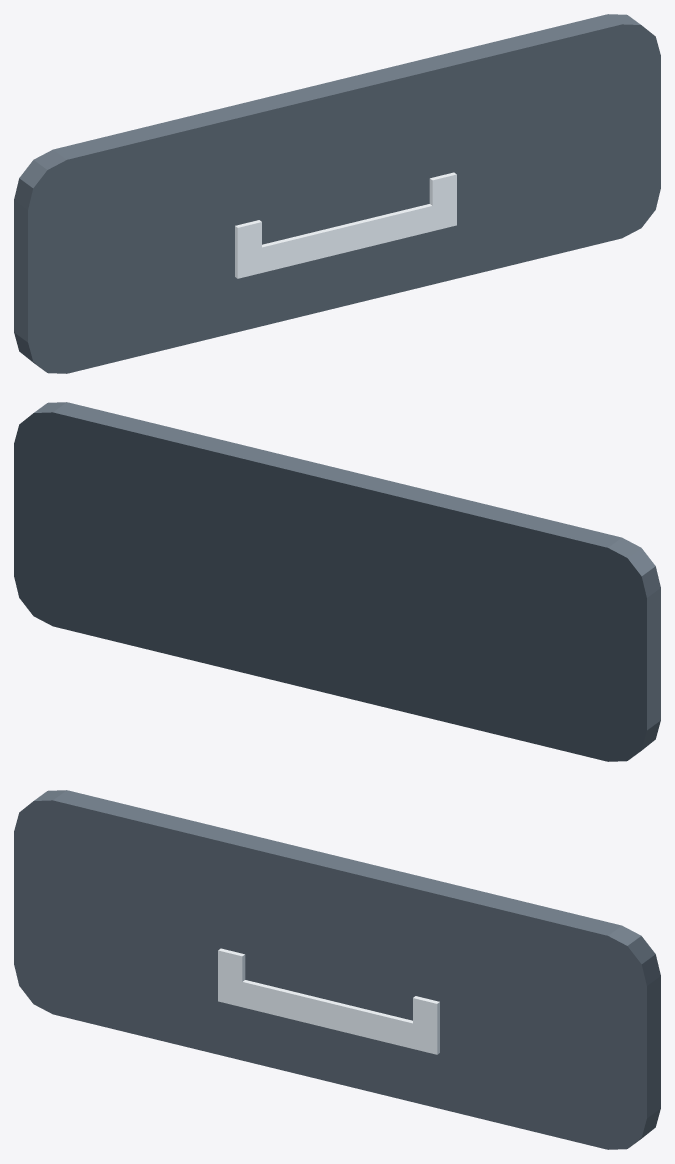
File: Key_Space.gltf
3 views of the same model, one above another, from view 1: azimuth 30°, elevation 25°; view 2: azimuth 150°, elevation 25°; view 3: azimuth 330°, elevation 25° (orthographic).
Visible parts, largest first — view 1: Key_Space_baked; view 2: Key_Space_baked; view 3: Key_Space_baked.
Part boxes in pixels (x1,y1,x2,y2): Key_Space_baked: (14, 14, 660, 373); Key_Space_baked: (14, 402, 660, 761); Key_Space_baked: (14, 790, 660, 1149).
Size of the model in its own units: 2.6 by 0.84 by 0.12.
